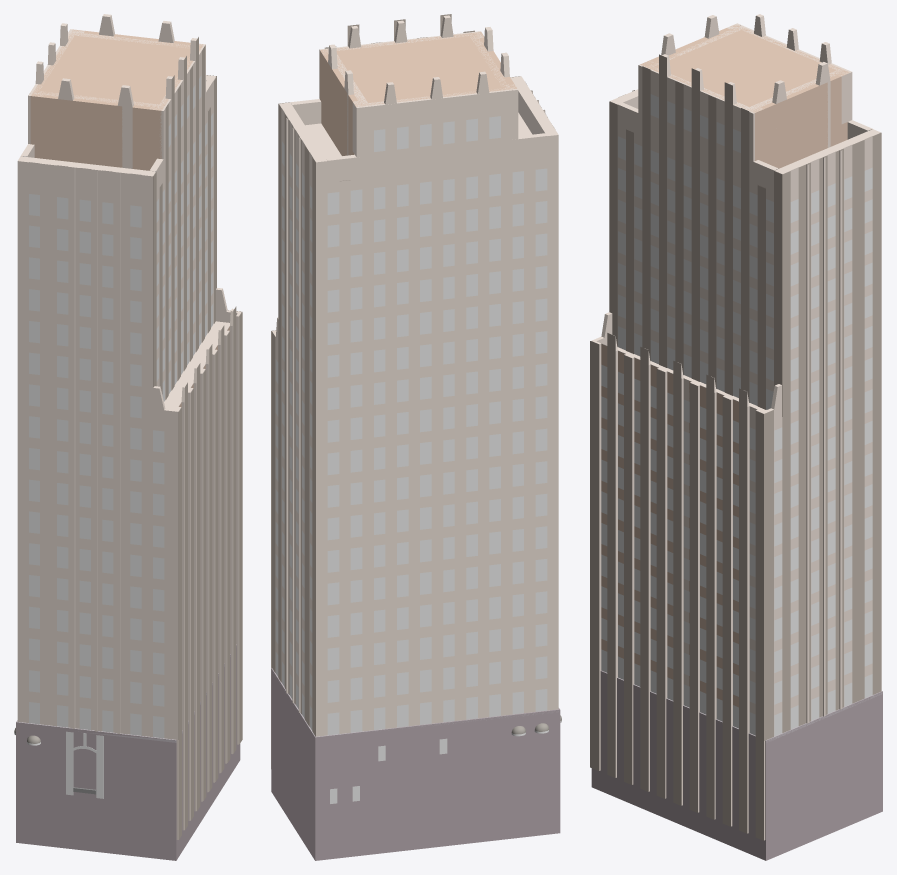
Rendered from tower_office4.dae.
The picture shows the model from 3 angles, left to right: view 1: azimuth 30°, elevation 25°; view 2: azimuth 150°, elevation 25°; view 3: azimuth 270°, elevation 25°; orthographic projection. The views are drawn at different scales.
Parts seen in each view (by area): view 1: tower_office4_a750, tower_office4_a350; view 2: tower_office4_a750, tower_office4_a350; view 3: tower_office4_a350, tower_office4_a750.
Boxes of the visible parts, <box> form: tower_office4_a750: <box>14,14,241,839</box>; tower_office4_a350: <box>16,29,242,860</box>; tower_office4_a750: <box>271,15,561,803</box>; tower_office4_a350: <box>271,14,560,860</box>; tower_office4_a350: <box>590,24,882,860</box>; tower_office4_a750: <box>591,14,882,840</box>.
Size of the model in its own units: 25.15 by 25.15 by 70.83.
